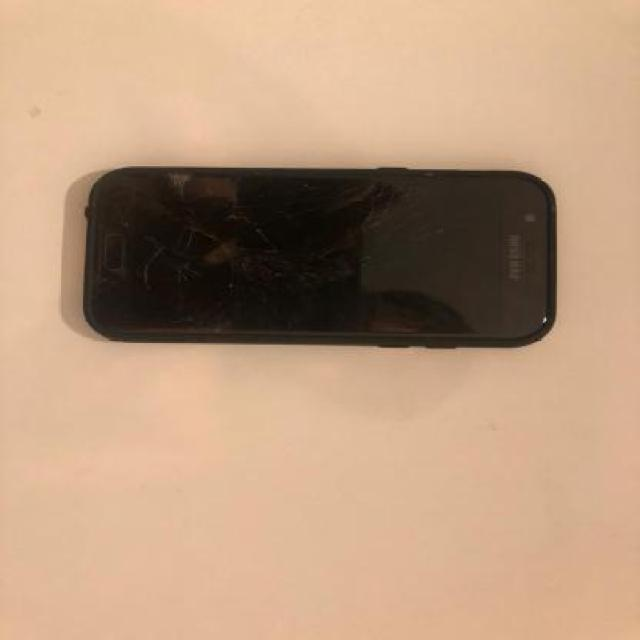Smartphone: (87, 168, 559, 344)
